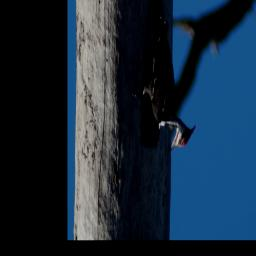Woodpecker: (131, 0, 196, 154)
